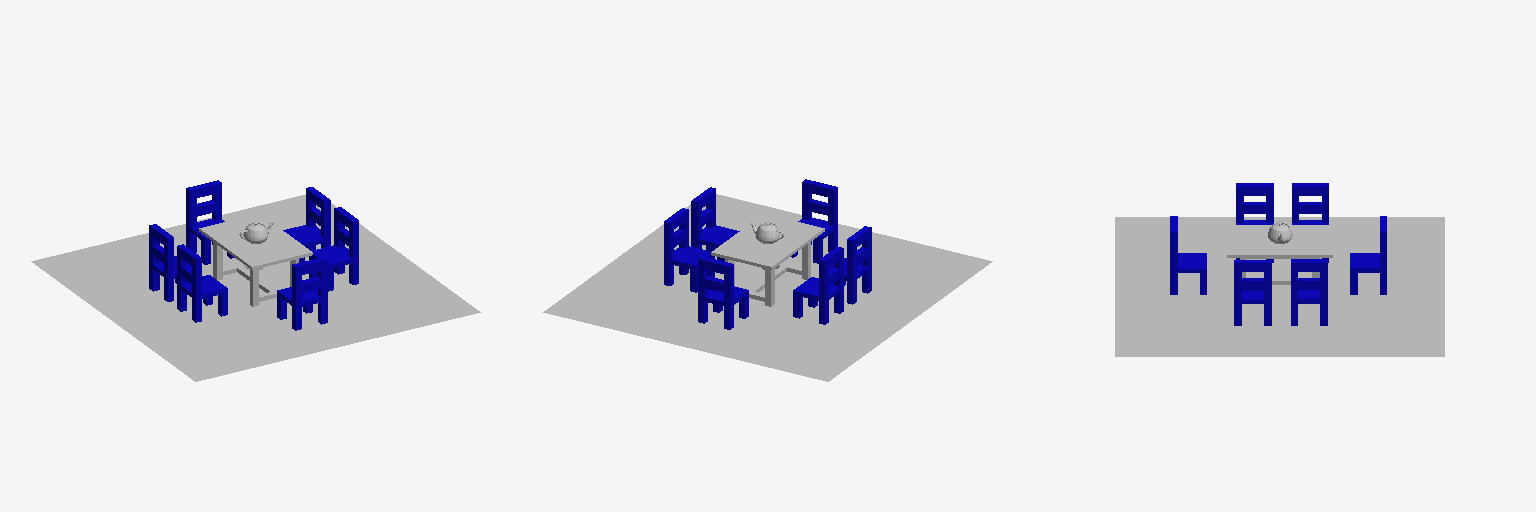
File: chair_01.obj
3 views of the same model, side by side, from view 1: azimuth 30°, elevation 25°; view 2: azimuth 150°, elevation 25°; view 3: azimuth 270°, elevation 25° (orthographic).
Parts seen in each view (by area): view 1: Plane_Plane_None, table_Cube.018_Material.008, chair_Cube_Material.003, chair.002_Cube.020_Material.003, chair.005_Cube.023_Material.003, chair.001_Cube.019_Material.003, chair.003_Cube.021_Material.003, chair.004_Cube.022_Material.003; view 2: Plane_Plane_None, table_Cube.018_Material.008, chair.001_Cube.019_Material.003, chair.003_Cube.021_Material.003, chair.004_Cube.022_Material.003, chair_Cube_Material.003, chair.005_Cube.023_Material.003, chair.002_Cube.020_Material.003; view 3: Plane_Plane_None, table_Cube.018_Material.008, chair.005_Cube.023_Material.003, chair.004_Cube.022_Material.003, chair_Cube_Material.003, chair.002_Cube.020_Material.003, chair.001_Cube.019_Material.003, chair.003_Cube.021_Material.003.
Part boxes in pixels (x1,y1,x2,y2): Plane_Plane_None: (31, 195, 480, 381); table_Cube.018_Material.008: (199, 214, 312, 306); chair_Cube_Material.003: (277, 257, 327, 330); chair.002_Cube.020_Material.003: (177, 244, 227, 322); chair.005_Cube.023_Material.003: (309, 207, 358, 291); chair.001_Cube.019_Material.003: (186, 180, 234, 264); chair.003_Cube.021_Material.003: (149, 224, 191, 301); chair.004_Cube.022_Material.003: (283, 187, 330, 262); Plane_Plane_None: (543, 194, 992, 381); table_Cube.018_Material.008: (711, 214, 824, 306); chair.001_Cube.019_Material.003: (698, 256, 748, 329); chair.003_Cube.021_Material.003: (793, 246, 843, 324); chair.004_Cube.022_Material.003: (664, 208, 714, 292); chair_Cube_Material.003: (791, 179, 837, 263); chair.005_Cube.023_Material.003: (691, 187, 739, 261); chair.002_Cube.020_Material.003: (829, 226, 871, 304); Plane_Plane_None: (1115, 217, 1444, 356); table_Cube.018_Material.008: (1227, 225, 1332, 284); chair.005_Cube.023_Material.003: (1234, 260, 1271, 325); chair.004_Cube.022_Material.003: (1291, 259, 1327, 325); chair_Cube_Material.003: (1170, 216, 1206, 294); chair.002_Cube.020_Material.003: (1236, 183, 1273, 262); chair.001_Cube.019_Material.003: (1350, 216, 1386, 294); chair.003_Cube.021_Material.003: (1292, 183, 1328, 262).
Bounding box in the file's own units: 6 × 1.33 × 6.